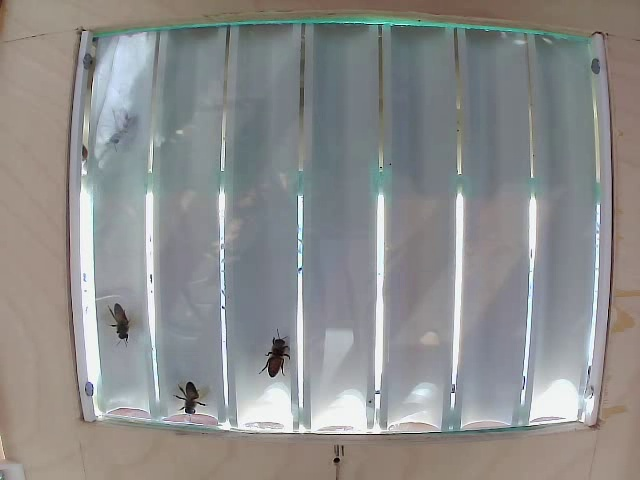bee: (256, 325, 301, 395), (167, 386, 221, 427), (92, 297, 131, 338)
